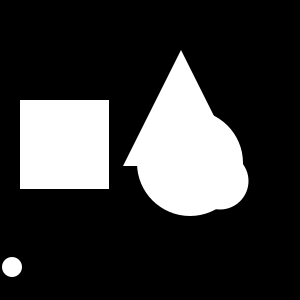circle: (20, 100, 109, 189)
rectangle: (137, 110, 243, 216), (192, 153, 248, 210), (2, 257, 22, 277)
triangle: (123, 50, 239, 166)
